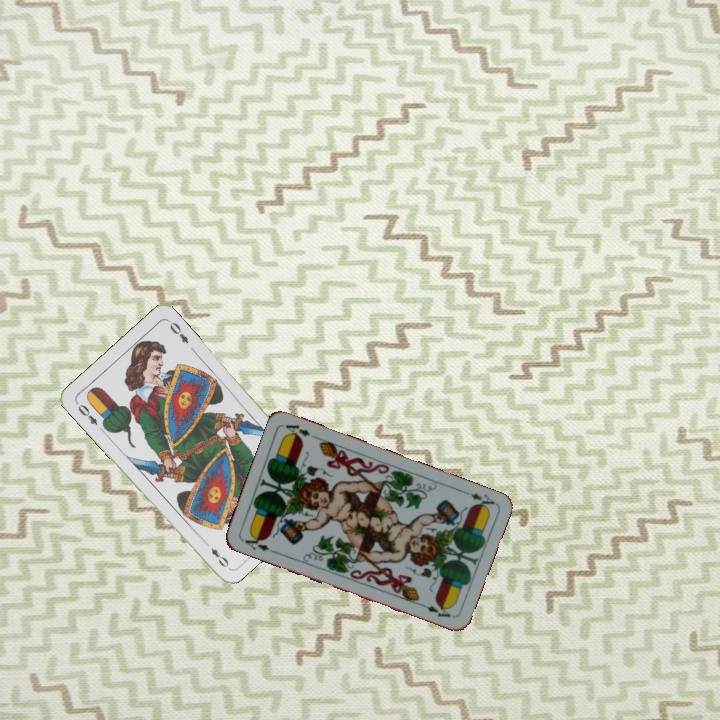EA: (458, 487, 497, 512), (241, 530, 278, 556)
EO: (72, 398, 100, 428)
